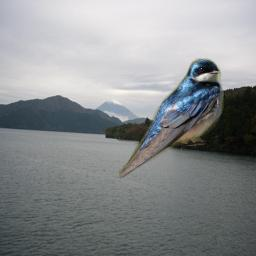Swallow: (119, 56, 225, 180)
